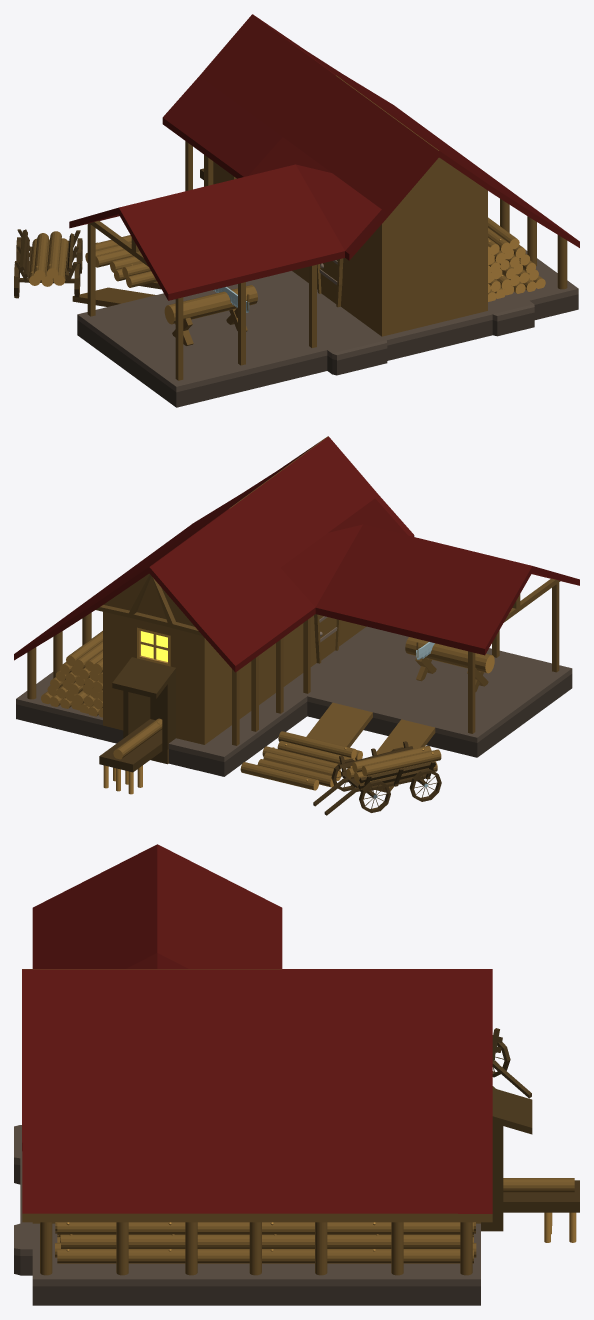
File: tartak.fbx
3 renders of one model, top to bottom at view 1: azimuth 30°, elevation 25°; view 2: azimuth 150°, elevation 25°; view 3: azimuth 270°, elevation 25°, orthographic. The views are drawn at different scales.
Parts seen in each view (by area): view 1: czesc1, Cube.007, Cylinder.015, Cube.004, Cylinder.002, Cube.003, Cylinder.020, Cylinder.019; view 2: czesc1, Cube.007, Cylinder.024, Cube.004, Cylinder.002, Cube.003, Cylinder.010, Cylinder.019, Cylinder.011, Cylinder.012, Cylinder.006, Cylinder.008 (+4 smaller); view 3: czesc1, Cylinder.015, Cylinder.013, Cylinder.024, Cylinder.014, Cylinder.012, Cube.004.
Boxes of the visible parts, x1,y1,x2,y2 form: czesc1: (69, 14, 579, 407); Cube.007: (87, 141, 316, 380); Cylinder.015: (488, 217, 545, 301); Cube.004: (14, 229, 82, 299); Cylinder.002: (164, 285, 257, 324); Cube.003: (317, 258, 343, 307); Cylinder.020: (47, 231, 61, 278); Cylinder.019: (34, 233, 48, 280); czesc1: (14, 436, 579, 794); Cube.007: (232, 578, 560, 745); Cylinder.024: (41, 631, 102, 717); Cube.004: (313, 741, 441, 815); Cylinder.002: (405, 637, 494, 673); Cube.003: (314, 614, 340, 663); Cylinder.010: (240, 762, 318, 790); Cylinder.019: (362, 749, 441, 775); Cylinder.011: (278, 731, 356, 758); Cylinder.012: (113, 718, 162, 759); Cylinder.006: (277, 741, 355, 768); Cylinder.008: (263, 752, 341, 780); czesc1: (14, 844, 579, 1305); Cylinder.015: (55, 1222, 169, 1263); Cylinder.013: (262, 1222, 373, 1263); Cylinder.024: (363, 1222, 476, 1263); Cylinder.014: (159, 1222, 271, 1263); Cylinder.012: (503, 1178, 574, 1192); Cube.004: (492, 1028, 531, 1098).
Bounding box in the file's own units: 1408 × 678 × 1318.
